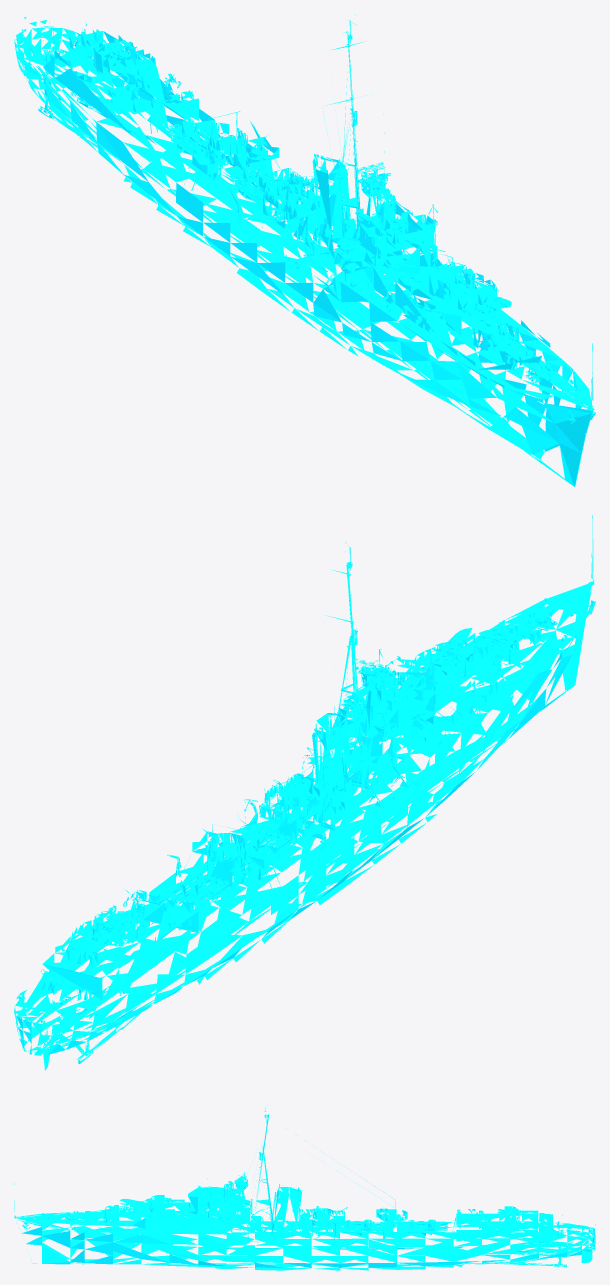
Rendered from Jervis.glb.
3 views of the same model, one above another, from view 1: azimuth 30°, elevation 25°; view 2: azimuth 150°, elevation 25°; view 3: azimuth 270°, elevation 25° (orthographic). The views are drawn at different scales.
Size of the model in its own units: 0.7245 by 2.18 by 7.25.
